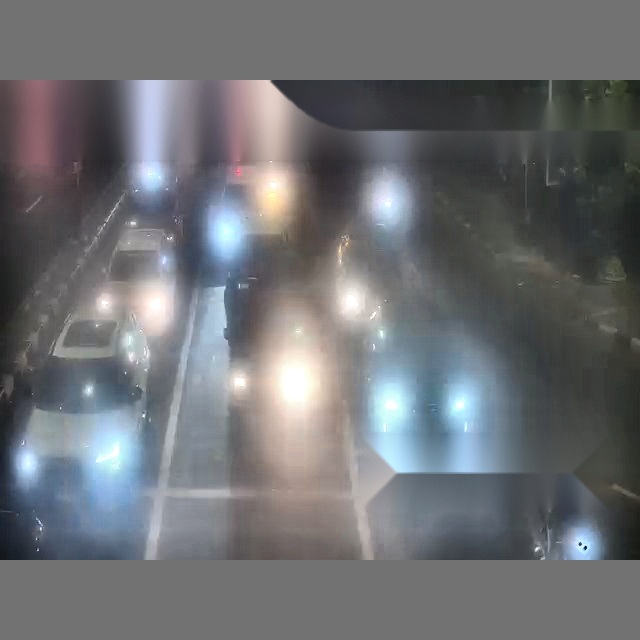Mobil: (14, 289, 154, 558), (98, 227, 174, 337)
Truk: (223, 80, 318, 241)
